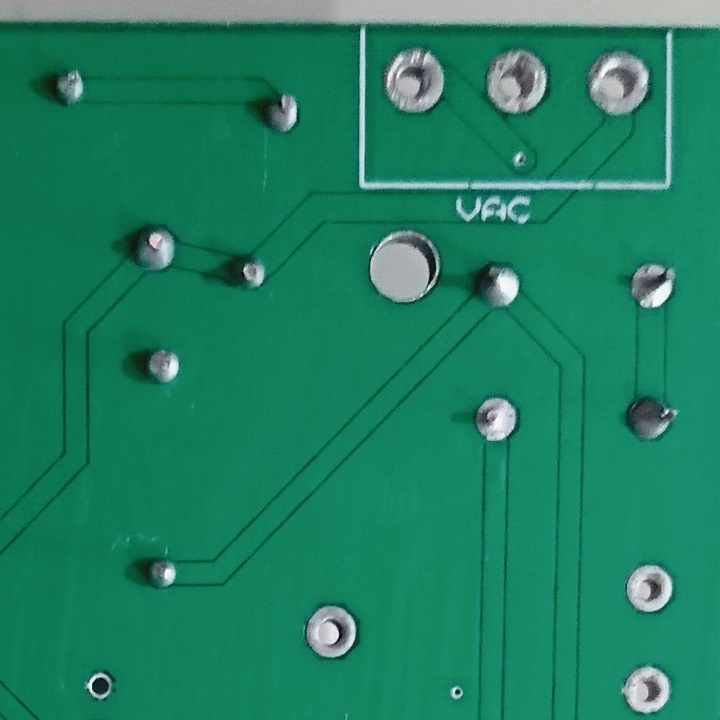F: (584, 46, 655, 118), (379, 44, 447, 118), (481, 44, 549, 118), (303, 598, 361, 666), (616, 661, 678, 714), (621, 562, 679, 616), (624, 261, 680, 315), (470, 392, 523, 446), (79, 668, 119, 700)
